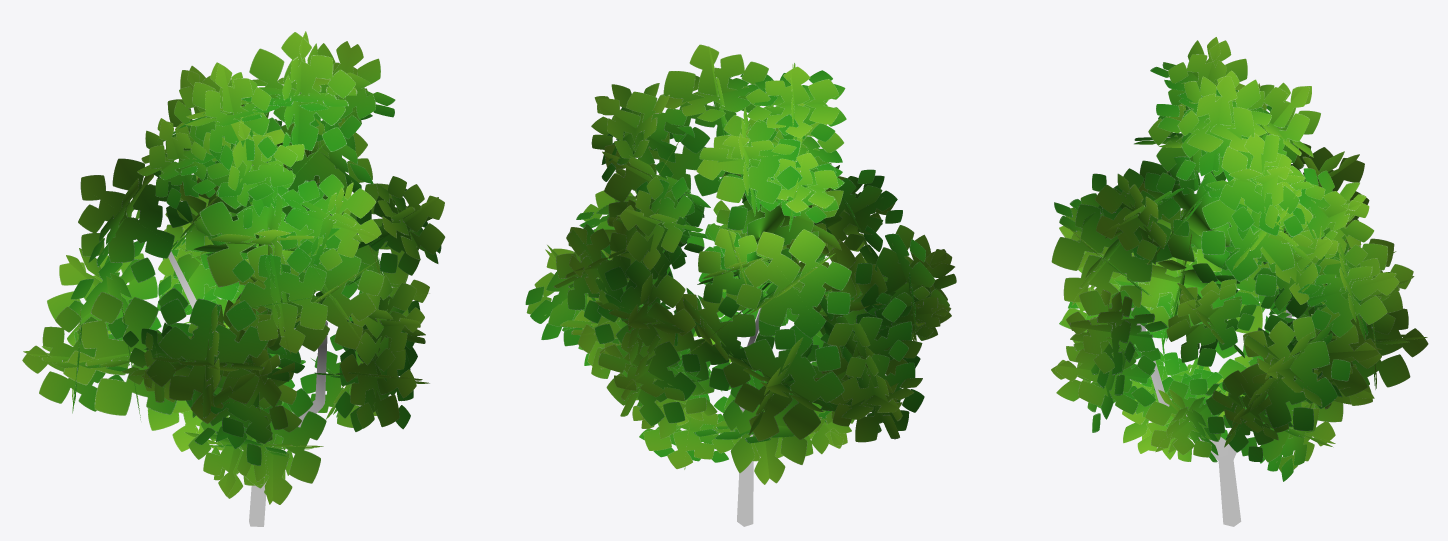
Rendered from model_bush_02c.fbx.
3 renders of one model, left to right at view 1: azimuth 30°, elevation 25°; view 2: azimuth 150°, elevation 25°; view 3: azimuth 270°, elevation 25°, orthographic. The views are drawn at different scales.
Visible parts, largest first — view 1: TSP_Bush_02C; view 2: TSP_Bush_02C; view 3: TSP_Bush_02C.
Boxes of the visible parts, x1,y1,x2,y2 form: TSP_Bush_02C: (22, 31, 445, 526); TSP_Bush_02C: (525, 44, 956, 526); TSP_Bush_02C: (1051, 37, 1428, 526).
Size of the model in its own units: 1.76 by 1.89 by 1.46.
